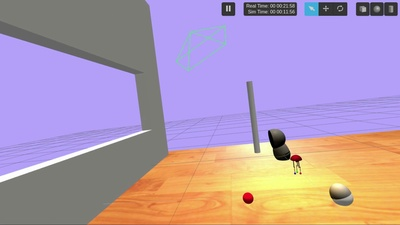mira_robot: (330, 184, 353, 206)
